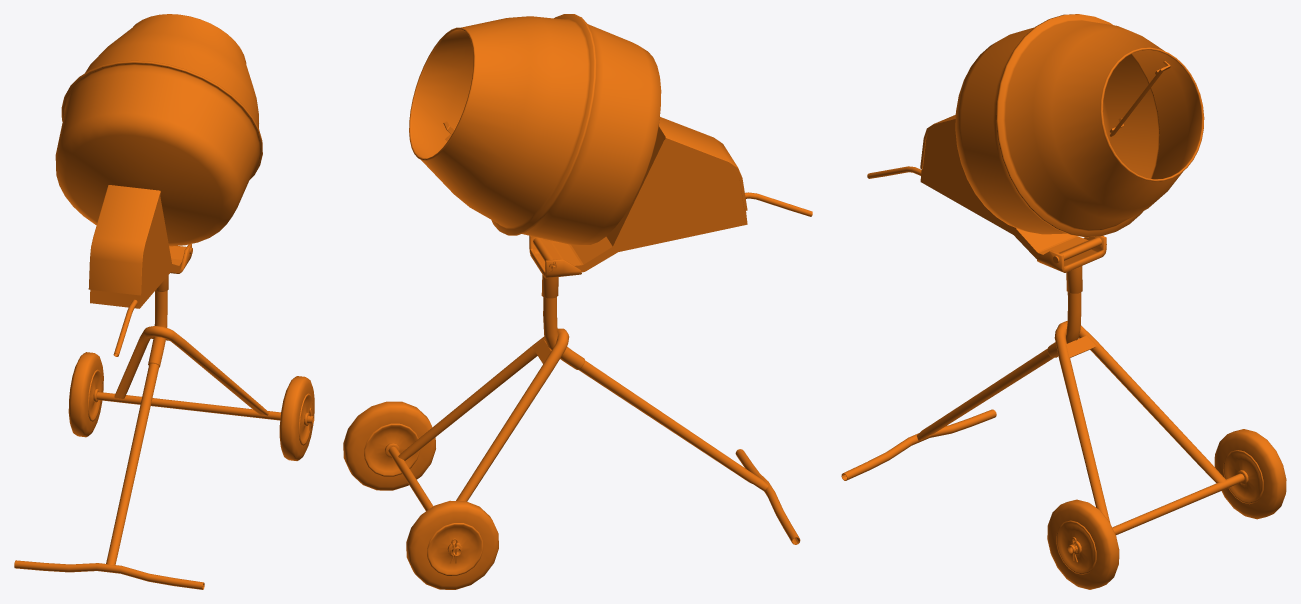
Rendered from betonmischer.fbx.
3 views of the same model, side by side, from view 1: azimuth 30°, elevation 25°; view 2: azimuth 150°, elevation 25°; view 3: azimuth 270°, elevation 25° (orthographic). The views are drawn at different scales.
Visible parts, largest first — view 1: Object022; view 2: Object022; view 3: Object022.
Part boxes in pixels (x1,y1,x2,y2): Object022: (14, 14, 314, 589); Object022: (343, 14, 812, 589); Object022: (841, 14, 1286, 589).
Size of the model in its own units: 129 by 158 by 130.
